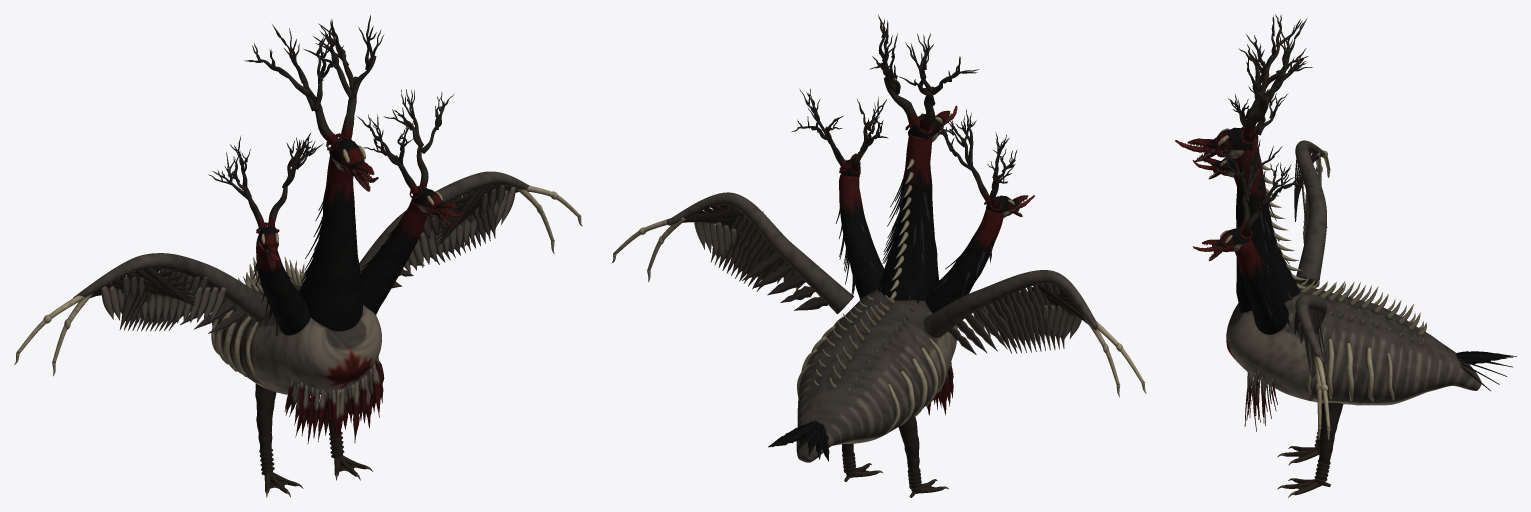
The model's file is goose.glb.
The picture shows the model from 3 angles, left to right: view 1: azimuth 30°, elevation 25°; view 2: azimuth 150°, elevation 25°; view 3: azimuth 270°, elevation 25°; orthographic projection. The views are drawn at different scales.
Visible parts, largest first — view 1: eldritch_goose; view 2: eldritch_goose; view 3: eldritch_goose.
Part boxes in pixels (bbox=[...]): eldritch_goose: bbox=[14, 15, 582, 497]; eldritch_goose: bbox=[611, 14, 1146, 497]; eldritch_goose: bbox=[1175, 14, 1516, 497].
Bounding box in the file's own units: 8.5 × 6.75 × 4.67.
1 material, 1 textured.
